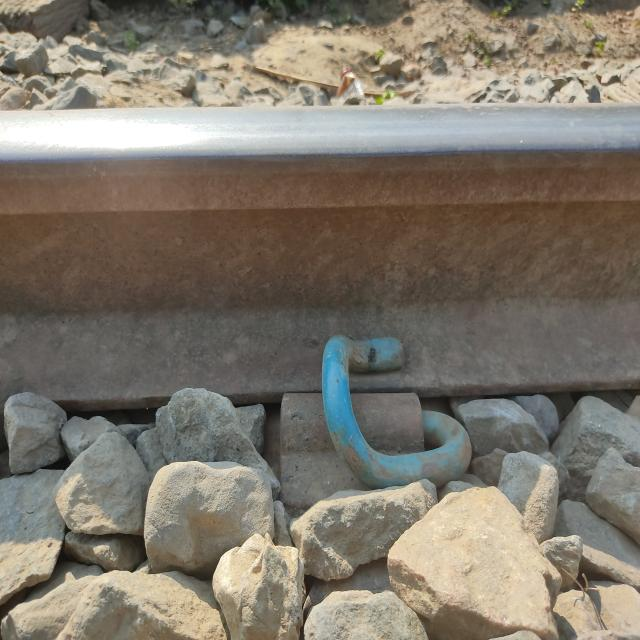No Fault: (294, 328, 461, 486)
